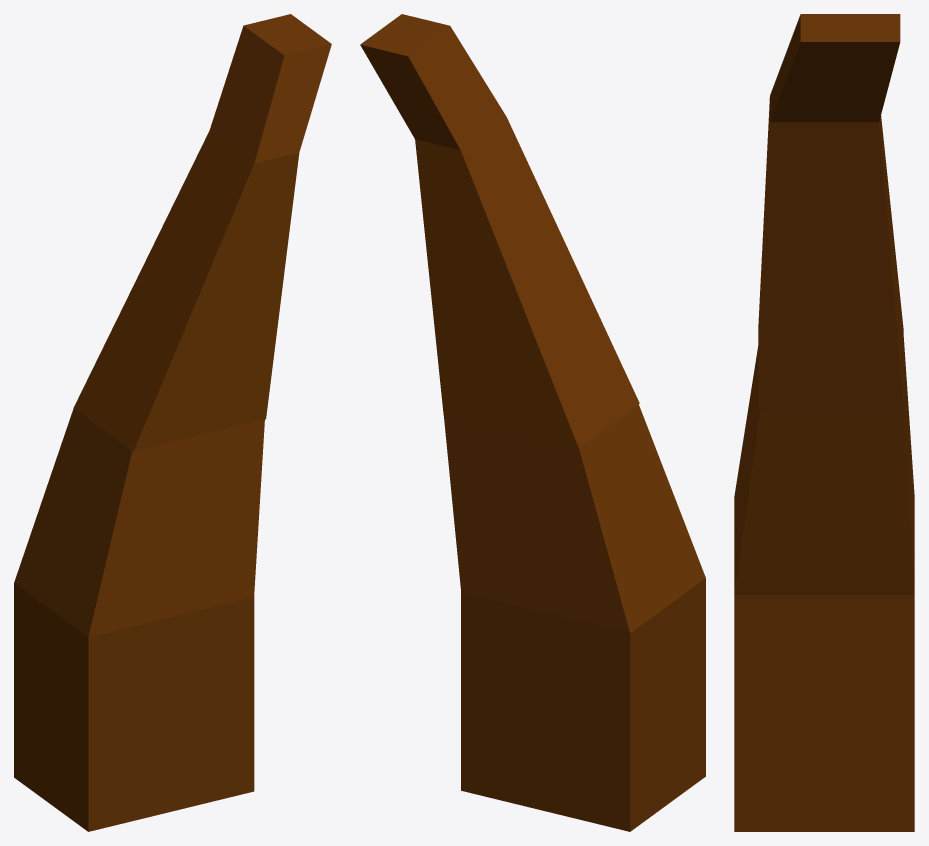
The model's file is Trunk.gltf.
The picture shows the model from 3 angles, left to right: view 1: azimuth 30°, elevation 25°; view 2: azimuth 150°, elevation 25°; view 3: azimuth 270°, elevation 25°; orthographic projection. The views are drawn at different scales.
Visible parts, largest first — view 1: Cube; view 2: Cube; view 3: Cube.
Boxes of the visible parts, x1,y1,x2,y2 form: Cube: [14, 14, 331, 831]; Cube: [360, 14, 705, 831]; Cube: [734, 14, 914, 831].
Size of the model in its own units: 3.27 by 8.09 by 1.55.
